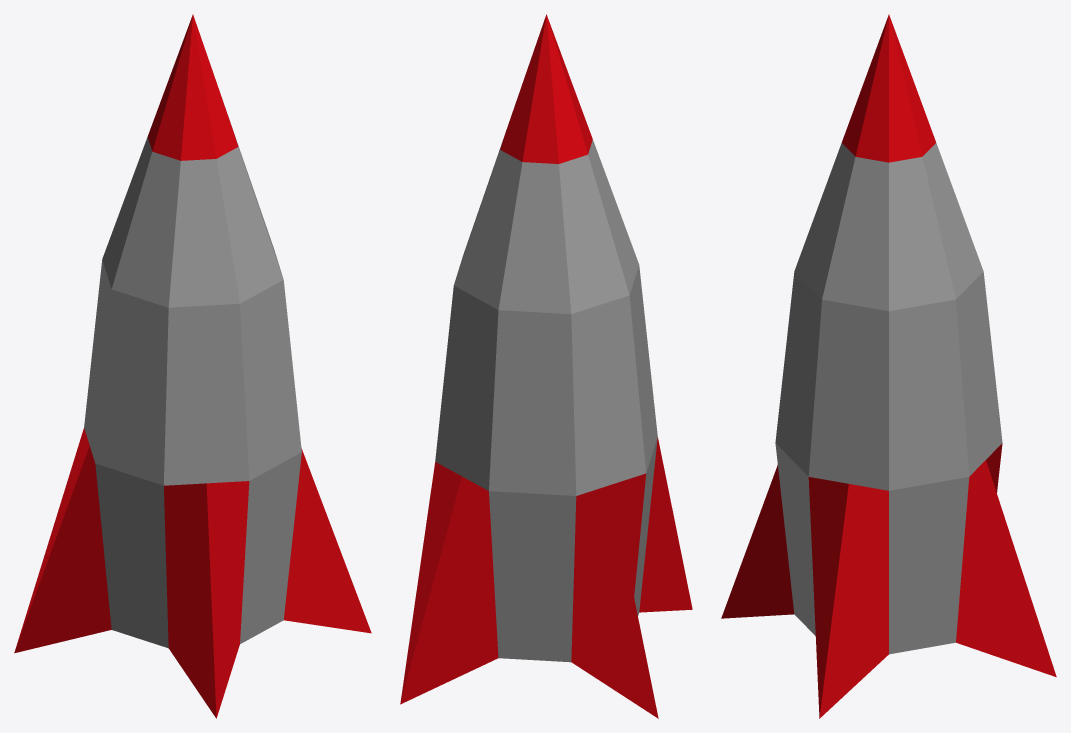
Rendered from Missile.fbx.
3 views of the same model, side by side, from view 1: azimuth 30°, elevation 25°; view 2: azimuth 150°, elevation 25°; view 3: azimuth 270°, elevation 25° (orthographic). The views are drawn at different scales.
Visible parts, largest first — view 1: Cylinder; view 2: Cylinder; view 3: Cylinder.
Boxes of the visible parts, left/top/right/bottom form: Cylinder: left=14, top=14, right=371, bottom=718; Cylinder: left=400, top=14, right=692, bottom=718; Cylinder: left=721, top=14, right=1056, bottom=718.
Bounding box in the file's own units: 355 × 739 × 355.
